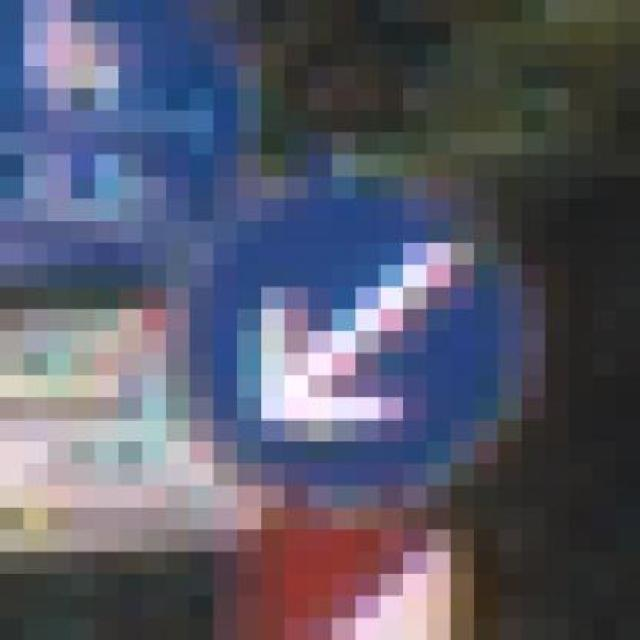Keep-Left: (118, 155, 570, 530)
